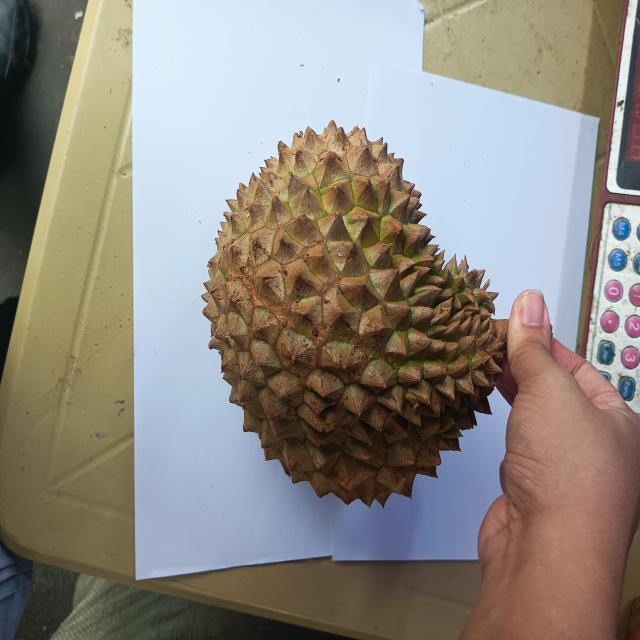mature: (202, 121, 503, 505)
